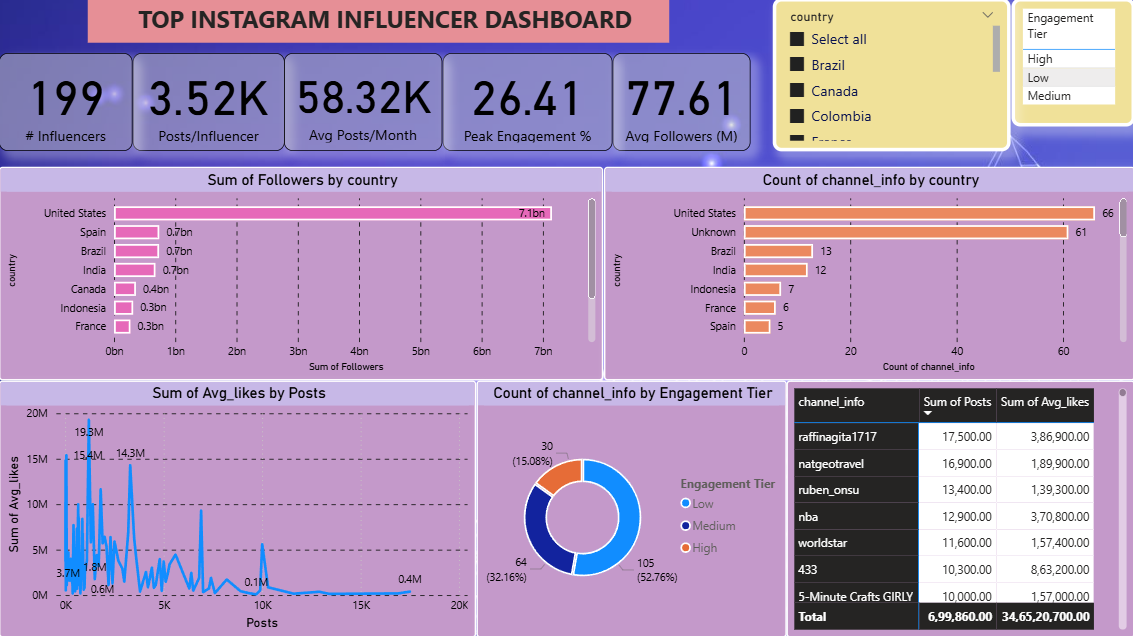

The dashboard page shown, as its layout file describes it:
{"tool":"powerbi","page":{"name":"Page 1","canvas":[1280,720],"ordinal":0},"visuals":[{"type":"tableEx","fields":{"Values":["top_insta_influencers_data.Engagement Tier"]},"box":[1140.6,0,139.1,144.9],"z":9},{"type":"card","fields":{"Values":["top_insta_influencers_data.Posts/Influencer"]},"box":[150.7,62.3,171,110.1],"z":10},{"type":"card","fields":{"Values":["top_insta_influencers_data.# Influencers"]},"box":[0,62.3,150.7,110.1],"z":11},{"type":"card","fields":{"Values":["top_insta_influencers_data.Avg Followers (M)"]},"box":[691.3,62.3,155.1,110.1],"z":12},{"type":"card","fields":{"Values":["top_insta_influencers_data.Peak Engagement %"]},"box":[500,62.3,191.3,110.1],"z":13},{"type":"card","fields":{"Values":["top_insta_influencers_data.Avg Posts/Month"]},"box":[321.7,62.3,178.3,110.1],"z":14},{"type":"barChart","fields":{"Category":["top_insta_influencers_data.country"],"Y":["top_insta_influencers_data.Followers"]},"box":[0,189.9,681.2,240.6],"z":15},{"type":"barChart","fields":{"Category":["top_insta_influencers_data.country"],"Y":["top_insta_influencers_data.channel_info"]},"box":[681.2,189.9,598.6,240.6],"z":16},{"type":"lineStackedColumnComboChart","fields":{"Category":["top_insta_influencers_data.Posts"],"Y2":["top_insta_influencers_data.Avg_likes"]},"box":[0,430.4,537.7,289.9],"z":17},{"type":"donutChart","fields":{"Y":["top_insta_influencers_data.channel_info"],"Category":["top_insta_influencers_data.Engagement Tier"]},"box":[537.7,430.4,349.3,289.9],"z":18},{"type":"pivotTable","fields":{"Rows":["top_insta_influencers_data.channel_info"],"Values":["top_insta_influencers_data.Posts","top_insta_influencers_data.Avg_likes"]},"box":[887,430.4,392.8,289.9],"z":19},{"type":"slicer","fields":{"Values":["top_insta_influencers_data.country"]},"box":[872.5,0,268.1,172.5],"z":20},{"type":"textbox","box":[100,0,655.1,50.7],"z":21}]}

Visuals, with their boxes in screenshot pixels (x1, y1, x2, y2), scaled from the page's 1280x720 canvas onto the 1133x636 screenshot:
tableEx - top_insta_influencers_data.Engagement Tier: 1010 0 1132 128
card - top_insta_influencers_data.Posts/Influencer: 133 55 285 152
card - top_insta_influencers_data.# Influencers: 0 55 133 152
card - top_insta_influencers_data.Avg Followers (M): 612 55 749 152
card - top_insta_influencers_data.Peak Engagement %: 443 55 612 152
card - top_insta_influencers_data.Avg Posts/Month: 285 55 443 152
barChart - top_insta_influencers_data.country x top_insta_influencers_data.Followers: 0 168 603 380
barChart - top_insta_influencers_data.country x top_insta_influencers_data.channel_info: 603 168 1132 380
lineStackedColumnComboChart - top_insta_influencers_data.Posts x top_insta_influencers_data.Avg_likes: 0 380 476 635
donutChart - top_insta_influencers_data.channel_info x top_insta_influencers_data.Engagement Tier: 476 380 785 635
pivotTable - top_insta_influencers_data.channel_info x top_insta_influencers_data.Posts: 785 380 1132 635
slicer - top_insta_influencers_data.country: 772 0 1010 152
textbox: 89 0 668 45
